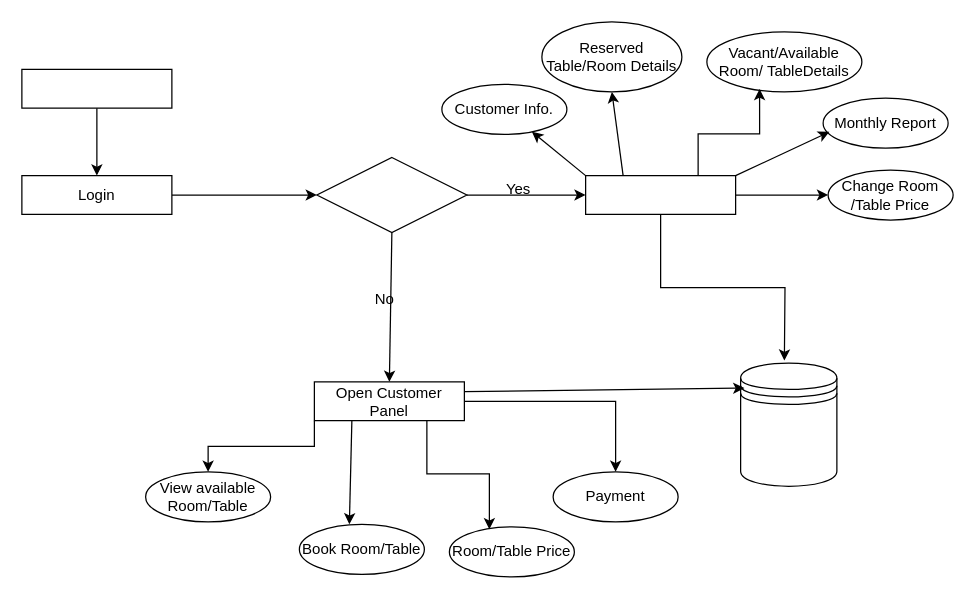
The diagram is 975 pixels wide and 599 high, and some of its shapes have lost their labels. Here are the shapes that lost their labels. From the top down, the centre of each, then its label:
At point (96, 88): "User".
At point (391, 194): "if admin".
At point (660, 194): "Open admin panel".
At point (788, 424): "Database".
